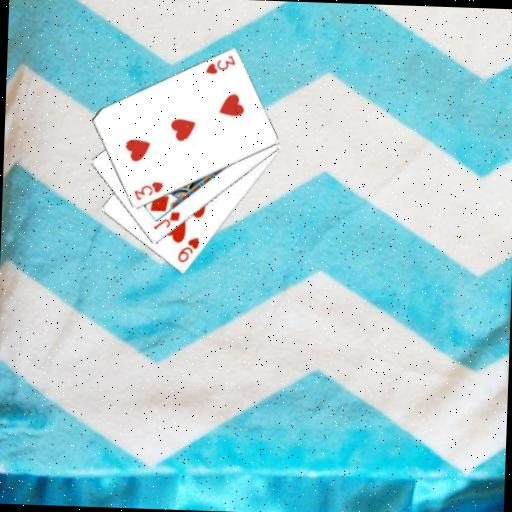3H: (201, 51, 237, 76), (130, 178, 165, 203)
9H: (174, 234, 201, 265)
JD: (150, 208, 182, 233)
